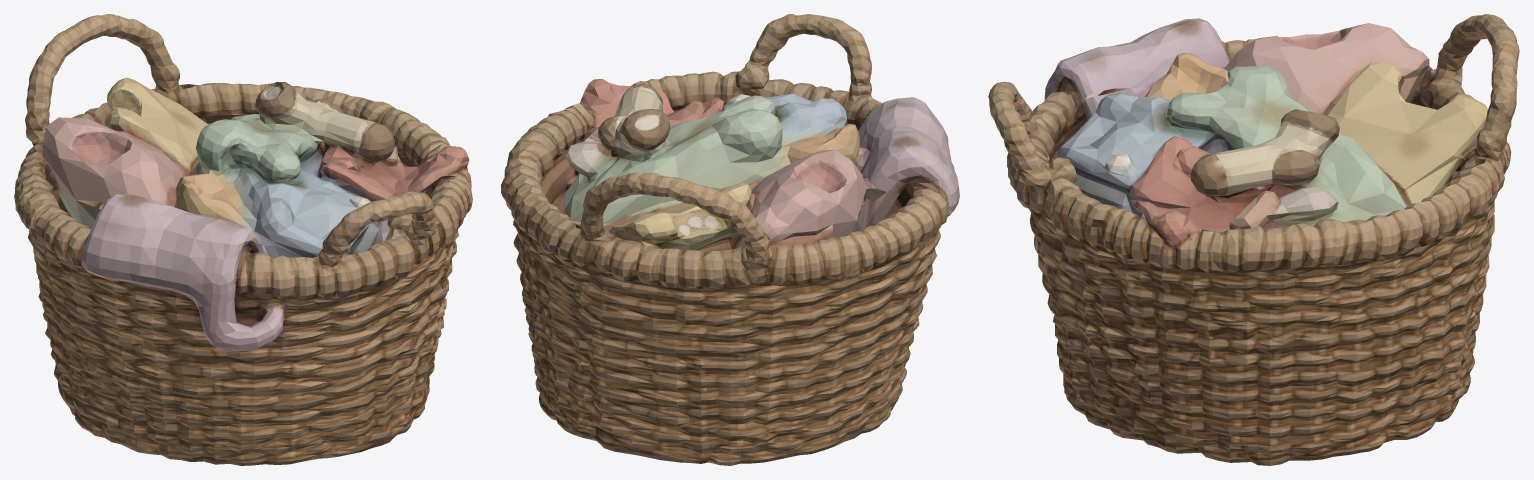
Rendered from wovenbasket.glb.
3 views of the same model, side by side, from view 1: azimuth 30°, elevation 25°; view 2: azimuth 150°, elevation 25°; view 3: azimuth 270°, elevation 25° (orthographic). The views are drawn at different scales.
Visible parts, largest first — view 1: tripo_node_6c117e20-25ee-43bd-a6e5-c505b61d2df9; view 2: tripo_node_6c117e20-25ee-43bd-a6e5-c505b61d2df9; view 3: tripo_node_6c117e20-25ee-43bd-a6e5-c505b61d2df9.
Boxes of the visible parts, left/top/right/bottom form: tripo_node_6c117e20-25ee-43bd-a6e5-c505b61d2df9: left=14, top=14, right=472, bottom=465; tripo_node_6c117e20-25ee-43bd-a6e5-c505b61d2df9: left=501, top=14, right=959, bottom=465; tripo_node_6c117e20-25ee-43bd-a6e5-c505b61d2df9: left=988, top=14, right=1519, bottom=465.
Bounding box in the file's own units: 0.9327 × 0.6805 × 0.9992.
Materials: 1 (1 with a texture image).
